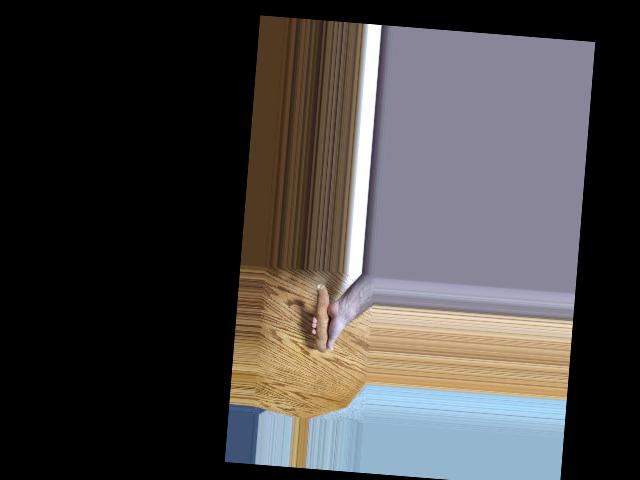sweet_potato: (312, 282, 338, 350)
